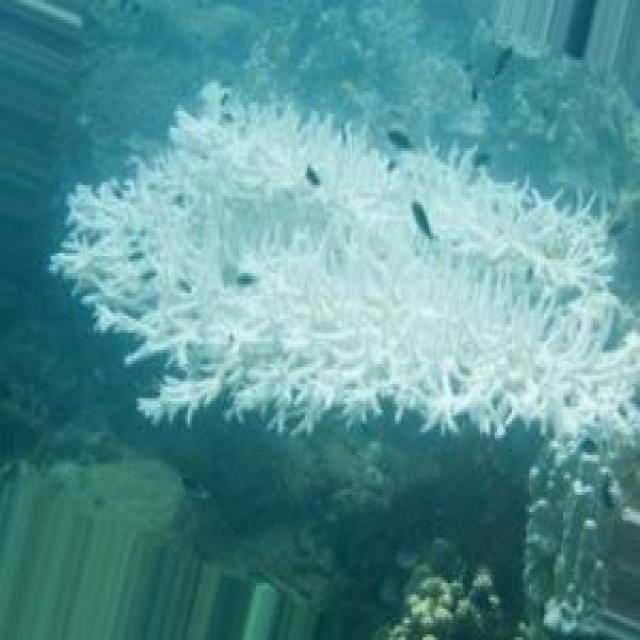bleached coral: (243, 338, 463, 407), (141, 134, 333, 208), (73, 191, 181, 284), (501, 205, 612, 287), (314, 233, 416, 316), (550, 333, 640, 418), (126, 333, 218, 412), (207, 259, 284, 350), (457, 327, 538, 410), (393, 156, 469, 242)
healthy coral: (329, 464, 410, 640), (521, 503, 572, 640), (390, 46, 476, 122), (262, 6, 322, 94)
